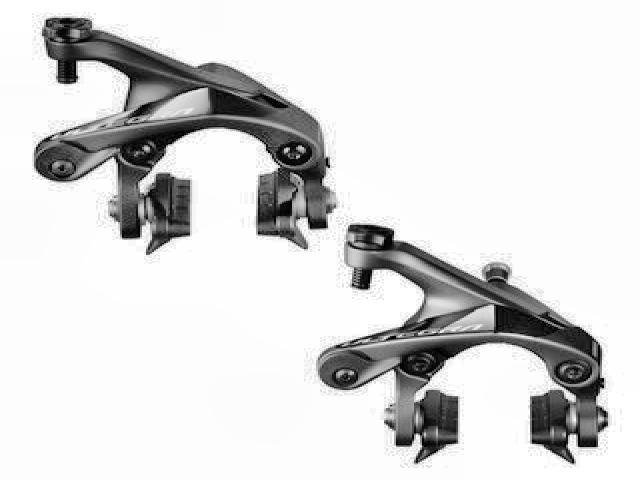rim_brake: (33, 13, 340, 249), (319, 221, 610, 466)
